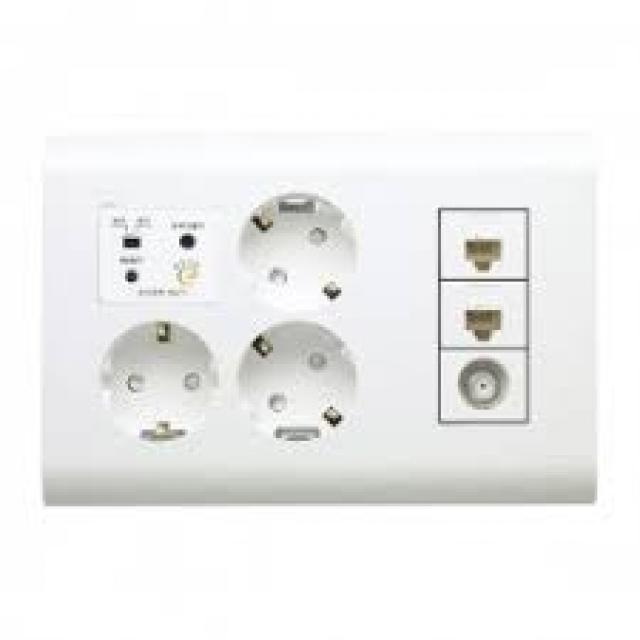typeb: (41, 114, 622, 570)
